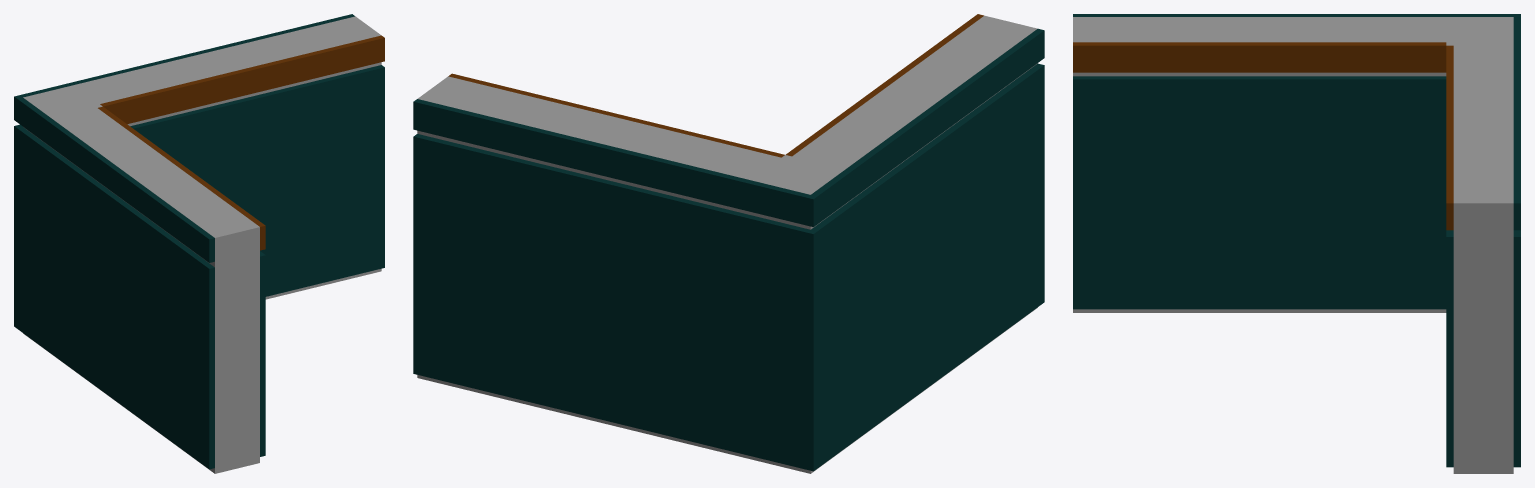
Rendered from Manufacturing Corner.obj.
The picture shows the model from 3 angles, left to right: view 1: azimuth 30°, elevation 25°; view 2: azimuth 150°, elevation 25°; view 3: azimuth 270°, elevation 25°; orthographic projection. The views are drawn at different scales.
Bounding box in the file's own units: 60 × 40 × 60.
1 material, 1 textured.
